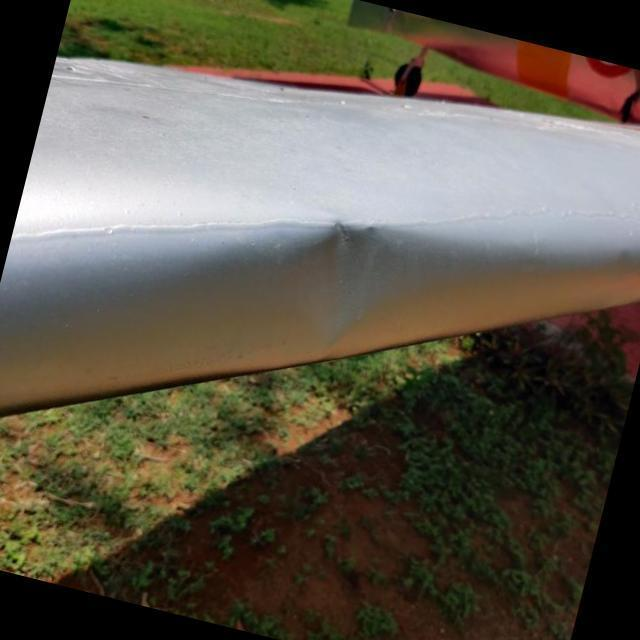Dent: (265, 190, 418, 372)
